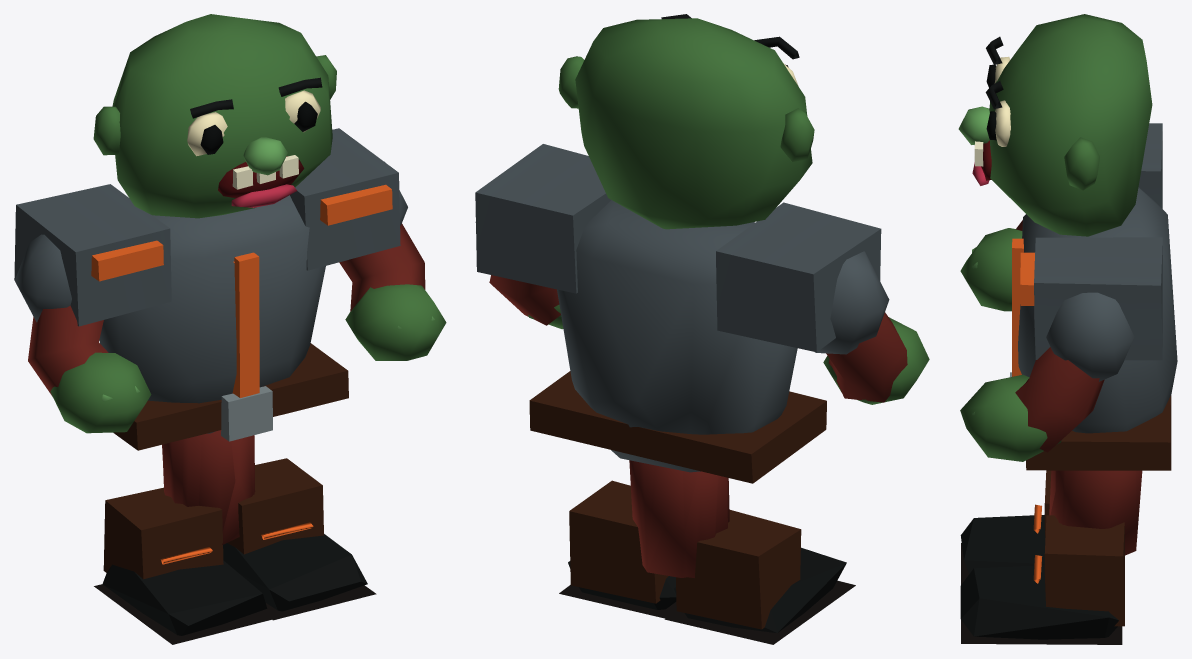
Rendered from elite-lod.glb.
The picture shows the model from 3 angles, left to right: view 1: azimuth 30°, elevation 25°; view 2: azimuth 150°, elevation 25°; view 3: azimuth 270°, elevation 25°; orthographic projection. The views are drawn at different scales.
Visible parts, largest first — view 1: Arms, Body, Head, LegL, LegR; view 2: Body, Arms, Head, LegL, LegR; view 3: Arms, Head, LegR, Body, LegL.
Boxes of the visible parts, x1,y1,x2,y2 form: Arms: [14, 128, 446, 433]; Body: [99, 195, 348, 450]; Head: [93, 14, 336, 218]; LegL: [94, 435, 275, 644]; LegR: [162, 430, 376, 620]; Body: [529, 200, 826, 483]; Arms: [475, 144, 929, 404]; Head: [558, 14, 814, 229]; LegL: [629, 460, 855, 644]; LegR: [559, 460, 727, 618]; Arms: [960, 123, 1162, 461]; Head: [958, 14, 1152, 236]; LegR: [960, 470, 1136, 644]; Body: [1010, 187, 1177, 470]; LegL: [960, 470, 1142, 584].
Bounding box in the file's own units: 0.848 × 1.16 × 0.4055.
Materials: 1 (1 with a texture image).
